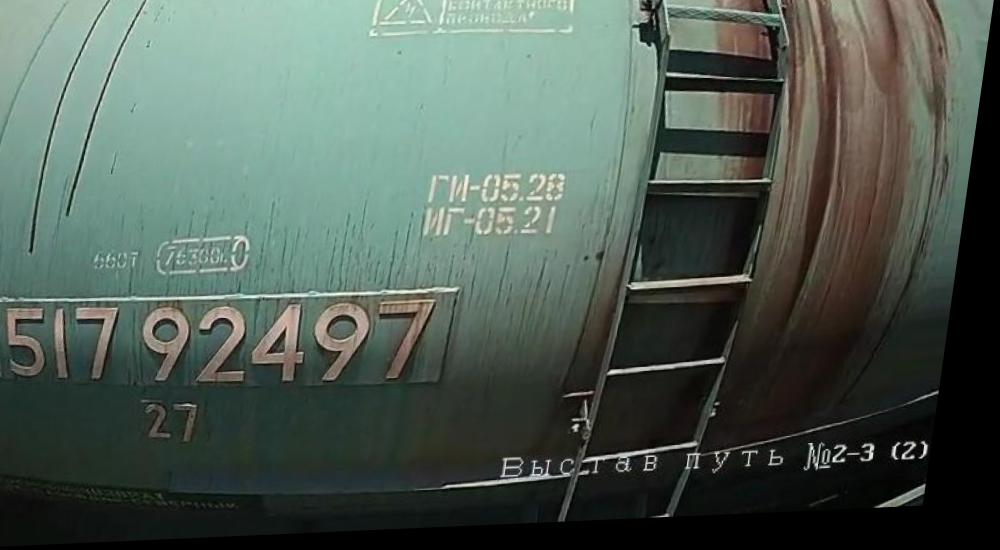Wagon-number: (2, 285, 450, 405)
